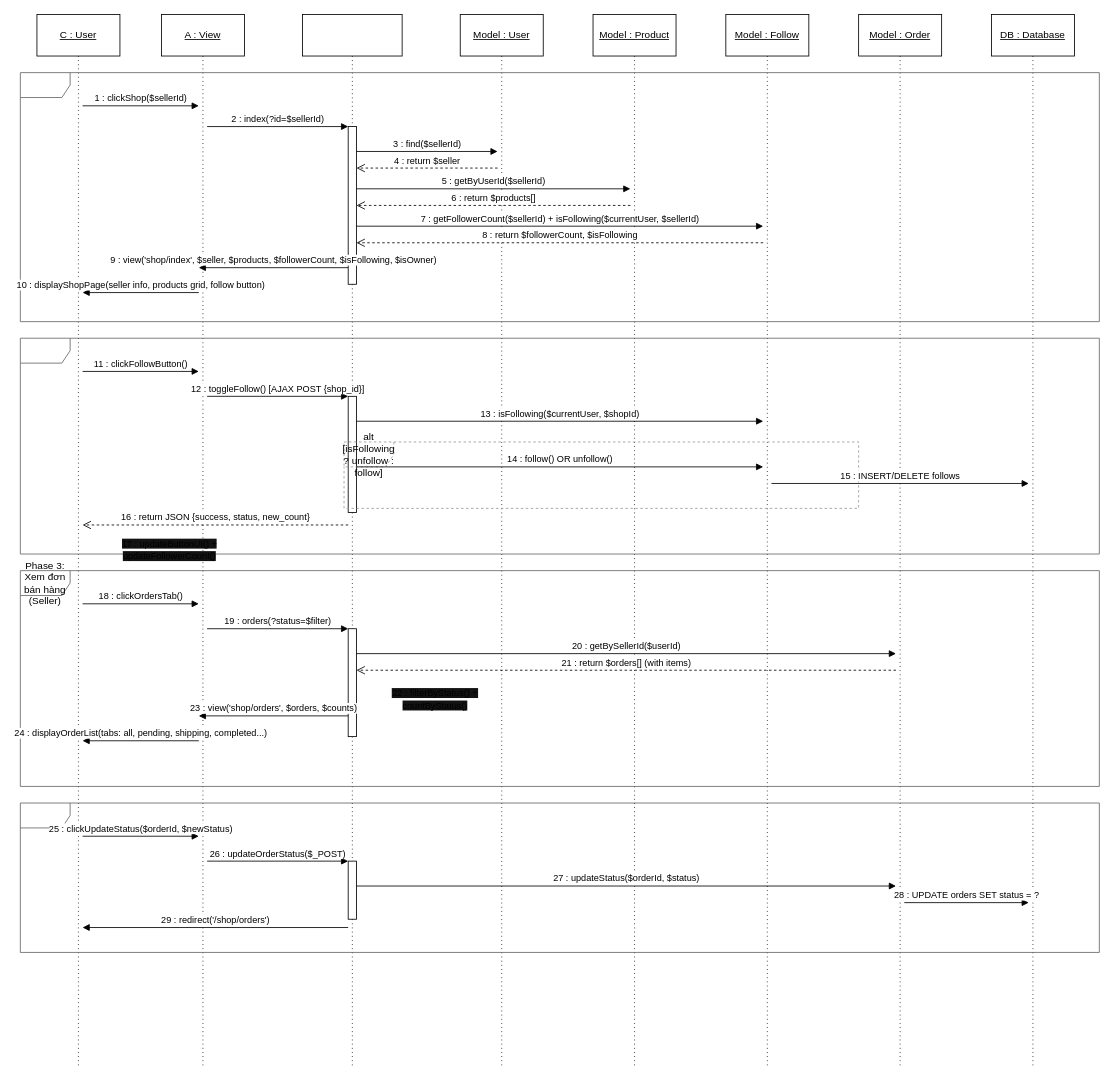
Some shapes in this 1114 by 1084 pixel diagram are drawn without their labels. Each missing label, with the box of its shape:
Controller : ShopController: (302, 14, 402, 56)
Phase 1: Xem trang cửa hàng: (20, 72, 1099, 322)
Phase 2: Theo dõi / Bỏ theo dõi shop (AJAX): (20, 337, 1099, 554)
Phase 4: Cập nhật trạng thái đơn hàng: (20, 802, 1099, 952)
